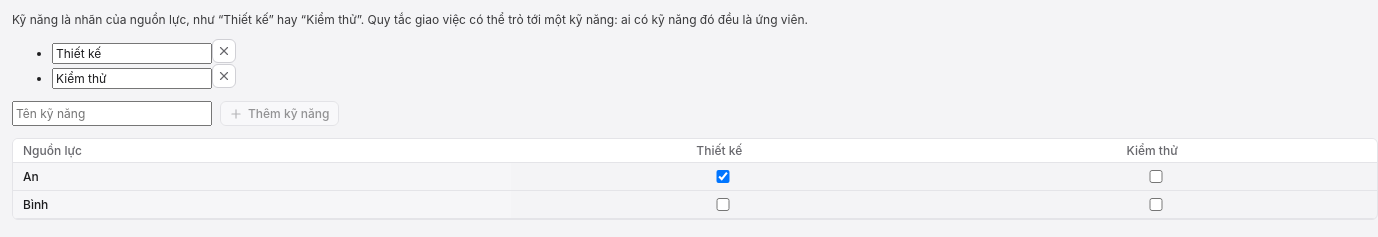
SkillsTab › renames a skill on leaving its name and keeps the name when emptied
Replace the text in the field named "Tên kỹ năng Thiết kế" with "Thiết kế UI": point(132, 54) [52,43,212,64]
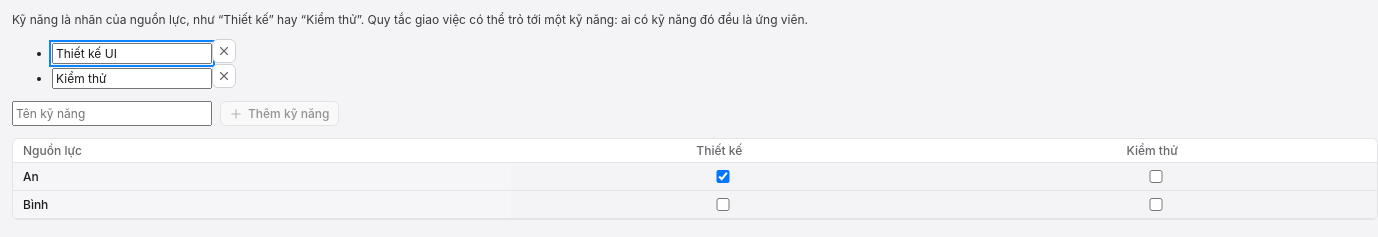
Press Tab
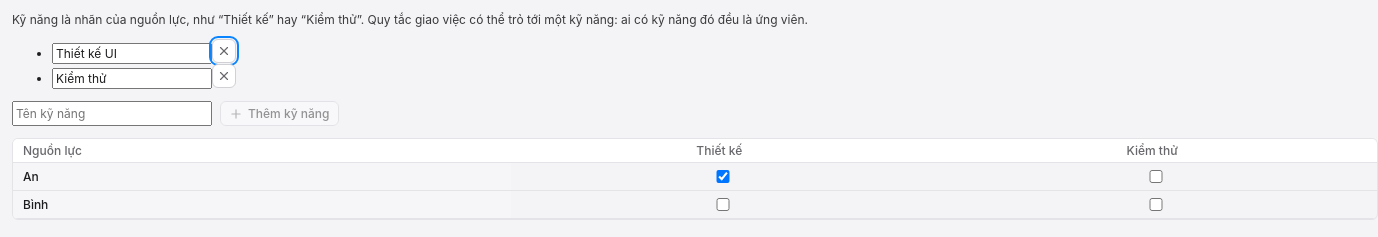
Clear the field named "Tên kỹ năng Thiết kế": point(132, 54) [52,43,212,64]
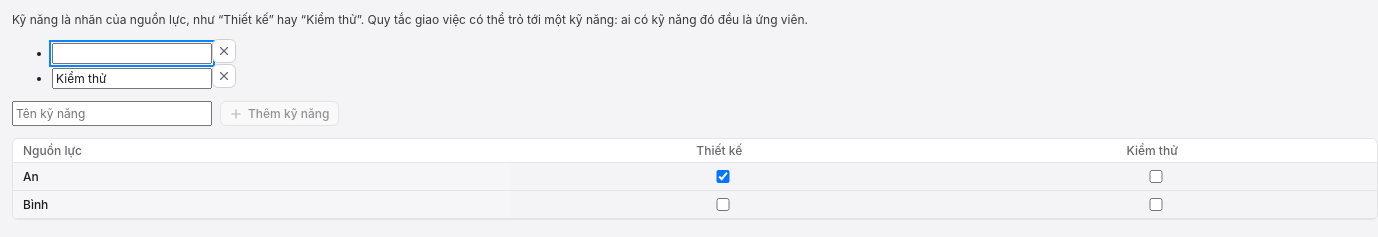
Press Tab
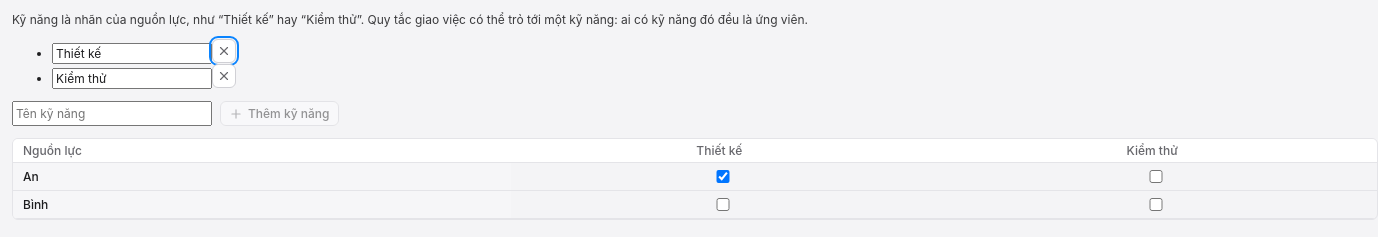
Expected: the field named "Tên kỹ năng Thiết kế" holds "Thiết kế", [52,43,212,64]
